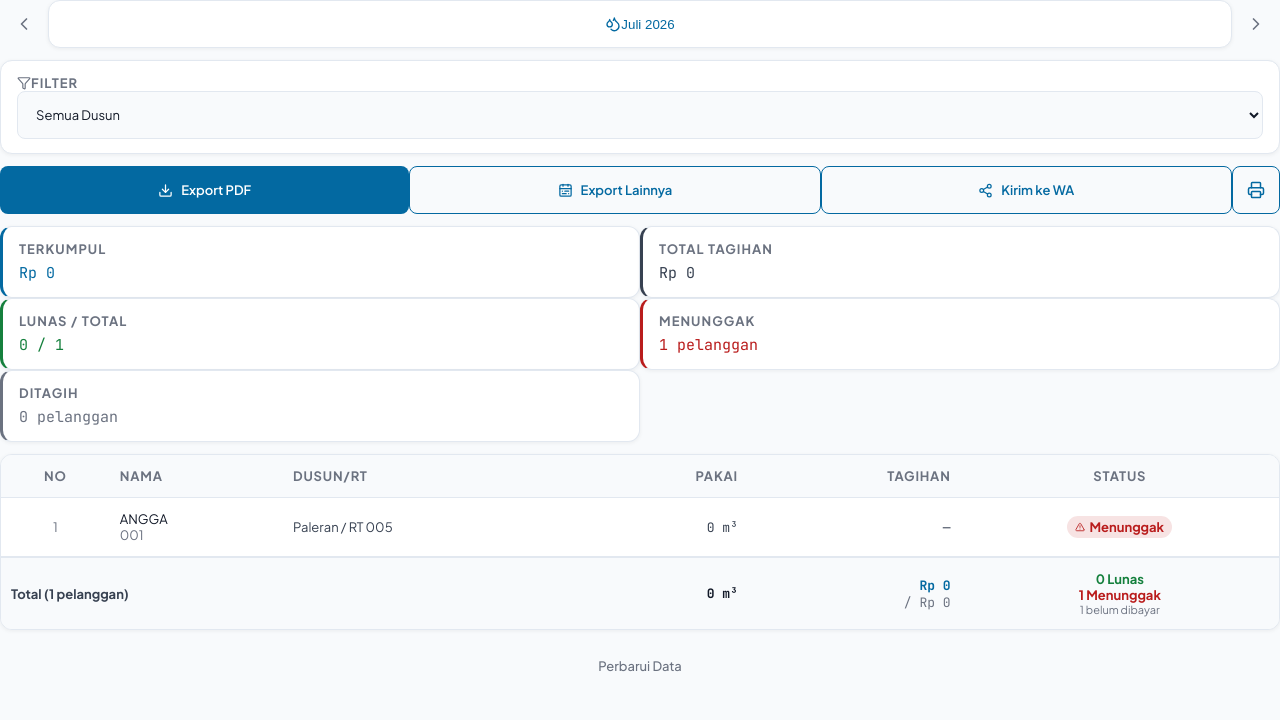
Scenario: RekapView — tombol Export Lainnya › klik tombol 'Export Lainnya' TIDAK melempar error dan modal benar-benar muncul di DOM
Click the button "Export Lainnya": (615, 190) x1=409 y1=166 x2=821 y2=214
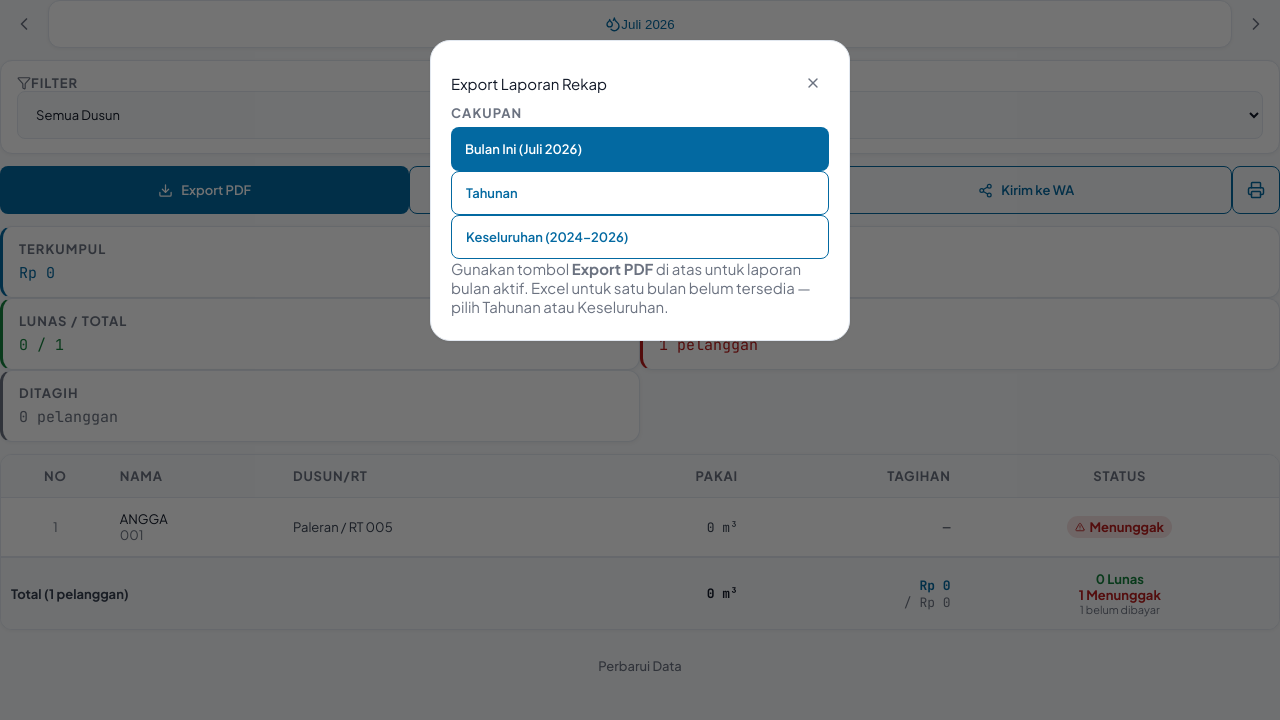
Expected: the text "Export Laporan Rekap" is shown, x1=451 y1=74 x2=607 y2=92
